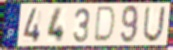3: (72, 7, 91, 44)
4: (46, 6, 67, 44), (22, 7, 42, 44)
9: (119, 4, 140, 45)
D: (92, 6, 117, 45)
U: (142, 5, 167, 44)
